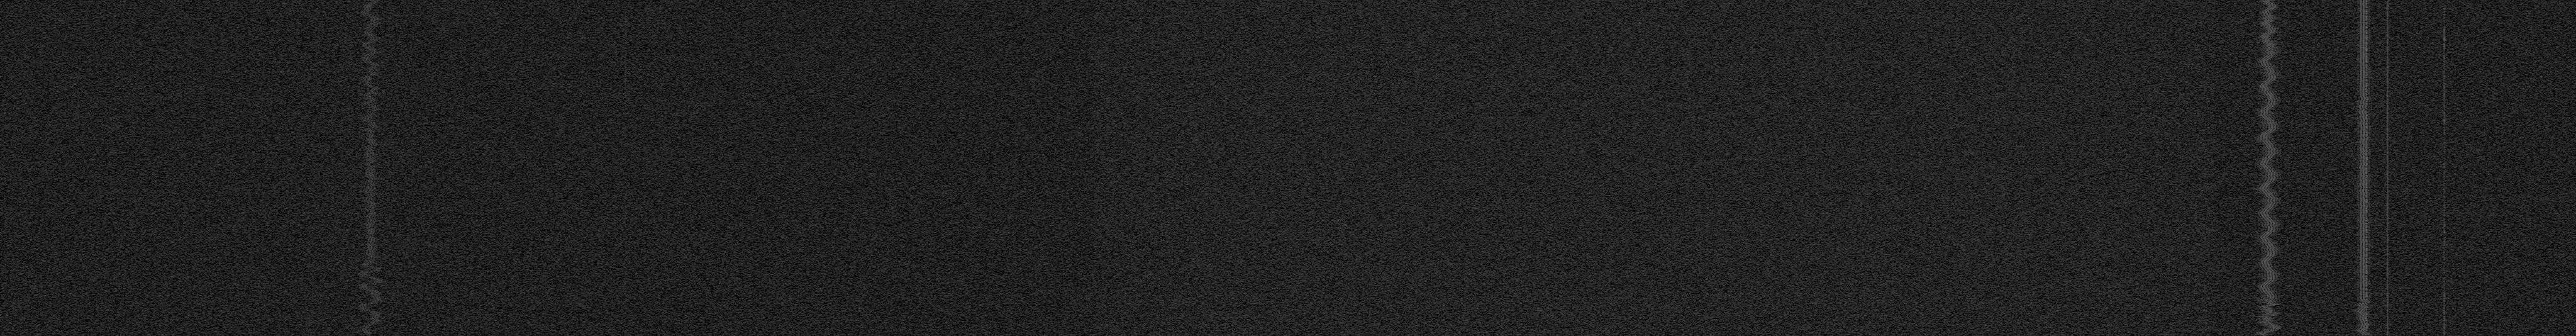wv_cw: (2364, 0, 2367, 336), (2385, 0, 2389, 336)
wv_dvbt_8kfft: (1092, 0, 2216, 336)
wv_lsb: (2443, 110, 2446, 188), (2443, 8, 2446, 74), (2443, 275, 2446, 336), (2443, 188, 2446, 249), (2443, 74, 2446, 110), (2443, 249, 2446, 275), (624, 87, 628, 112), (624, 64, 628, 87), (624, 8, 628, 28), (624, 232, 628, 247), (624, 125, 628, 140), (624, 249, 628, 260), (624, 221, 628, 232), (624, 53, 628, 64), (624, 30, 628, 40), (624, 305, 628, 313), (624, 296, 628, 305), (624, 288, 628, 296), (624, 194, 628, 203), (624, 112, 628, 120), (624, 277, 628, 283), (624, 204, 628, 211), (624, 328, 628, 333), (624, 318, 628, 323), (624, 267, 628, 272), (624, 260, 628, 265), (624, 186, 628, 191), (624, 181, 628, 186), (624, 160, 628, 165), (624, 155, 628, 160), (624, 48, 628, 53), (624, 41, 628, 46), (624, 216, 628, 219), (624, 168, 626, 175), (624, 140, 628, 143), (624, 323, 626, 328), (624, 333, 626, 336), (624, 176, 628, 178), (624, 150, 628, 152), (624, 212, 626, 214), (624, 145, 626, 147)
wv_wbfm: (2252, 0, 2284, 336), (356, 0, 386, 336), (2353, 0, 2376, 336)
